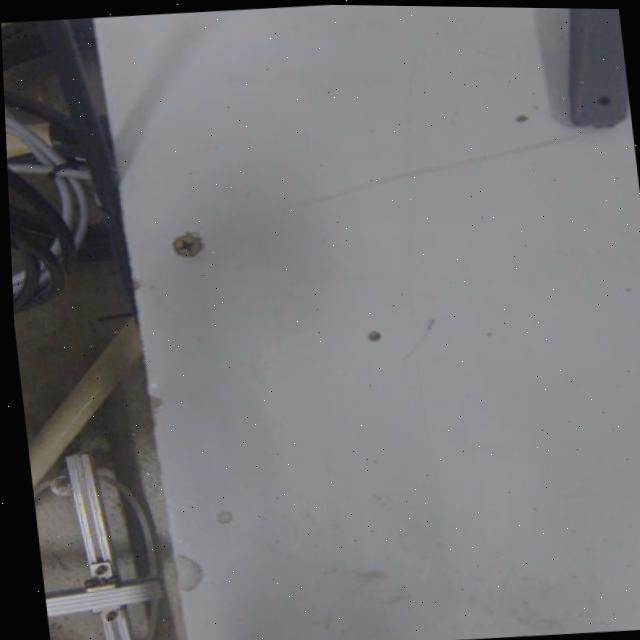grey: (553, 8, 632, 130)
head: (595, 92, 613, 106)
